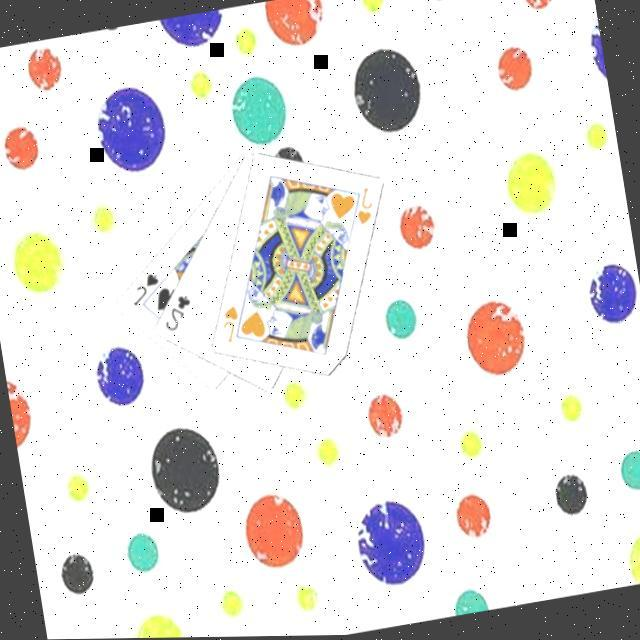2C: (158, 288, 198, 334)
JH: (349, 182, 379, 228), (218, 300, 245, 346)
JS: (126, 268, 166, 308)
